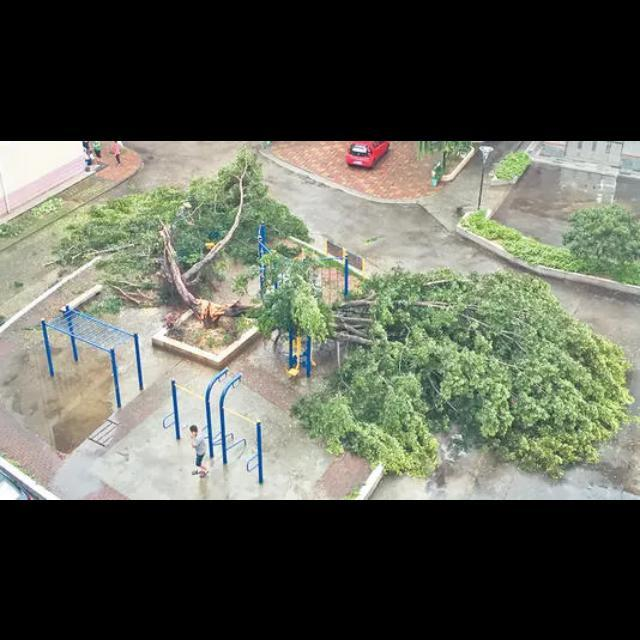fallen_tree: (208, 263, 632, 475), (56, 152, 316, 328)
